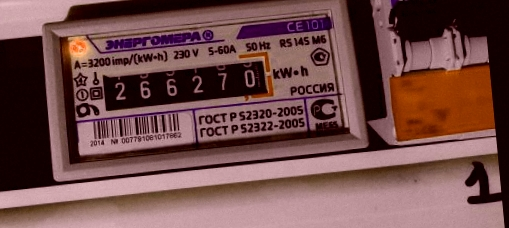0: (242, 67, 256, 88)
2: (111, 80, 128, 102), (189, 73, 205, 94)
6: (137, 78, 152, 100), (164, 77, 179, 98)
7: (215, 71, 228, 91)
screen: (92, 48, 280, 118)
